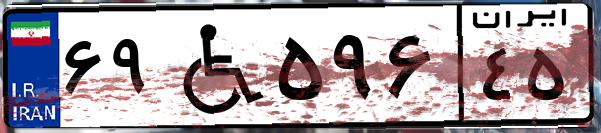4: (475, 38, 525, 113)
5: (270, 28, 330, 110), (525, 38, 570, 115)
6: (385, 28, 445, 110), (57, 26, 110, 100)
9: (330, 28, 385, 110), (110, 28, 158, 98)
ژ (معلولین و جانبازان): (158, 12, 270, 120)
